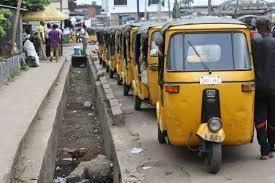keke: (150, 14, 272, 170)
